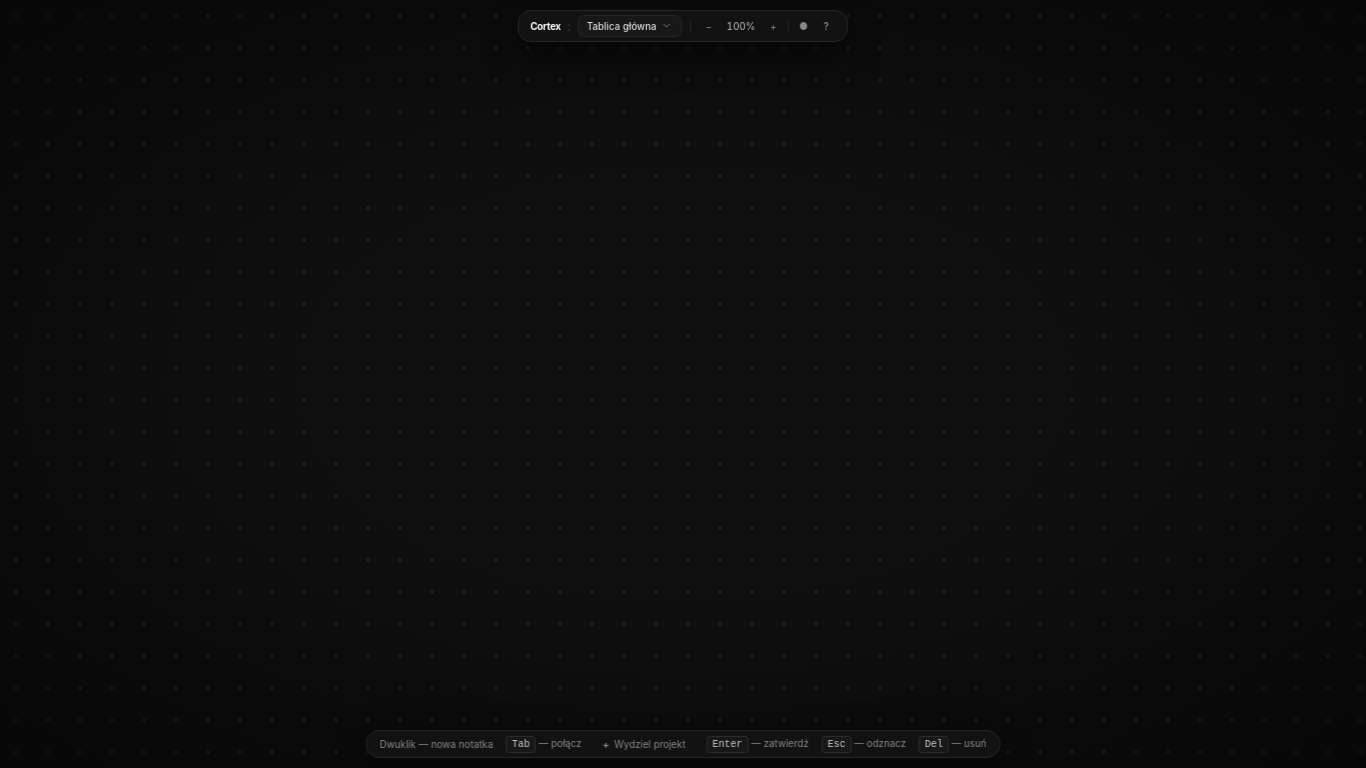
Test: Macro Canvas - Cluster, Bracket and Project Linking › renders projects and satellite clusters in macro view
The image size is (1366, 768).
Click the button with test id "project-switcher-button" at (630, 26), box [578,15,682,37]
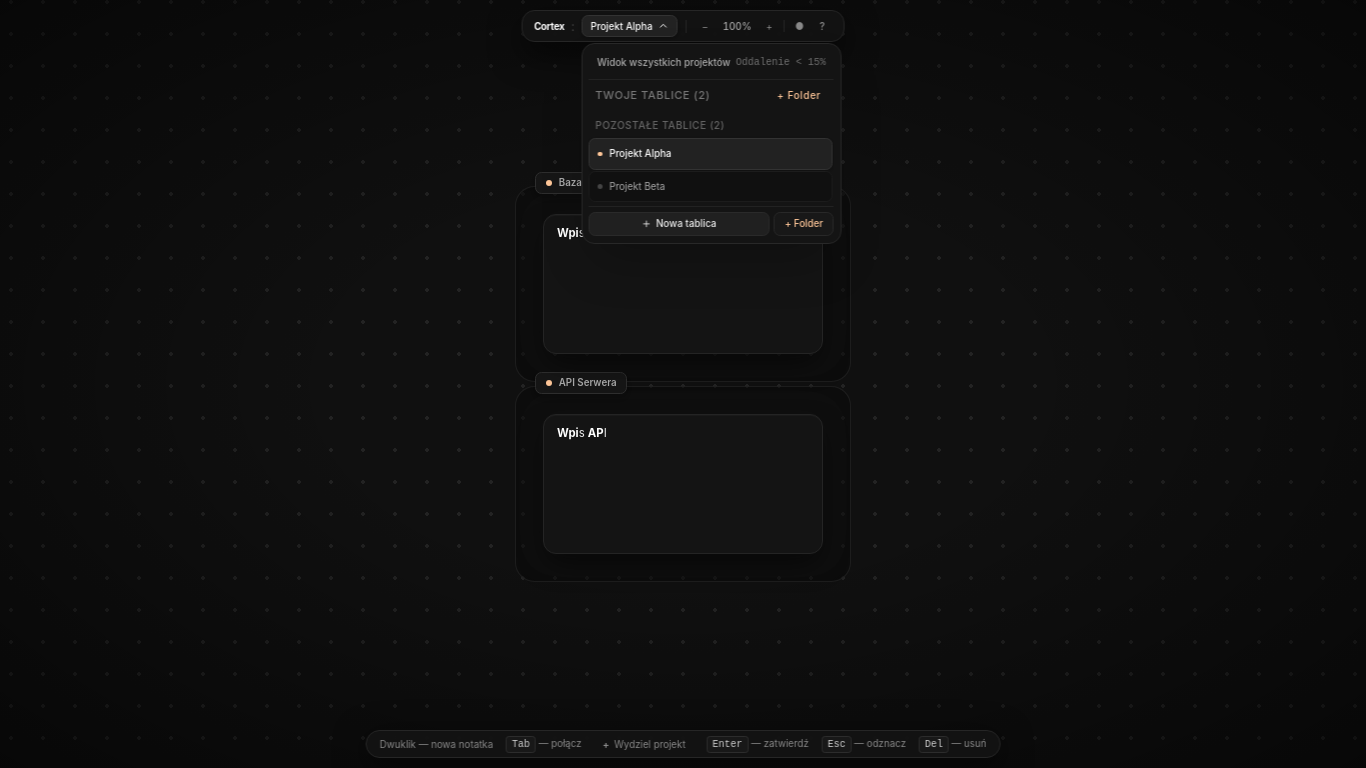
Click the button with test id "macro-view-toggle-btn" at (711, 62), box [589,51,834,74]
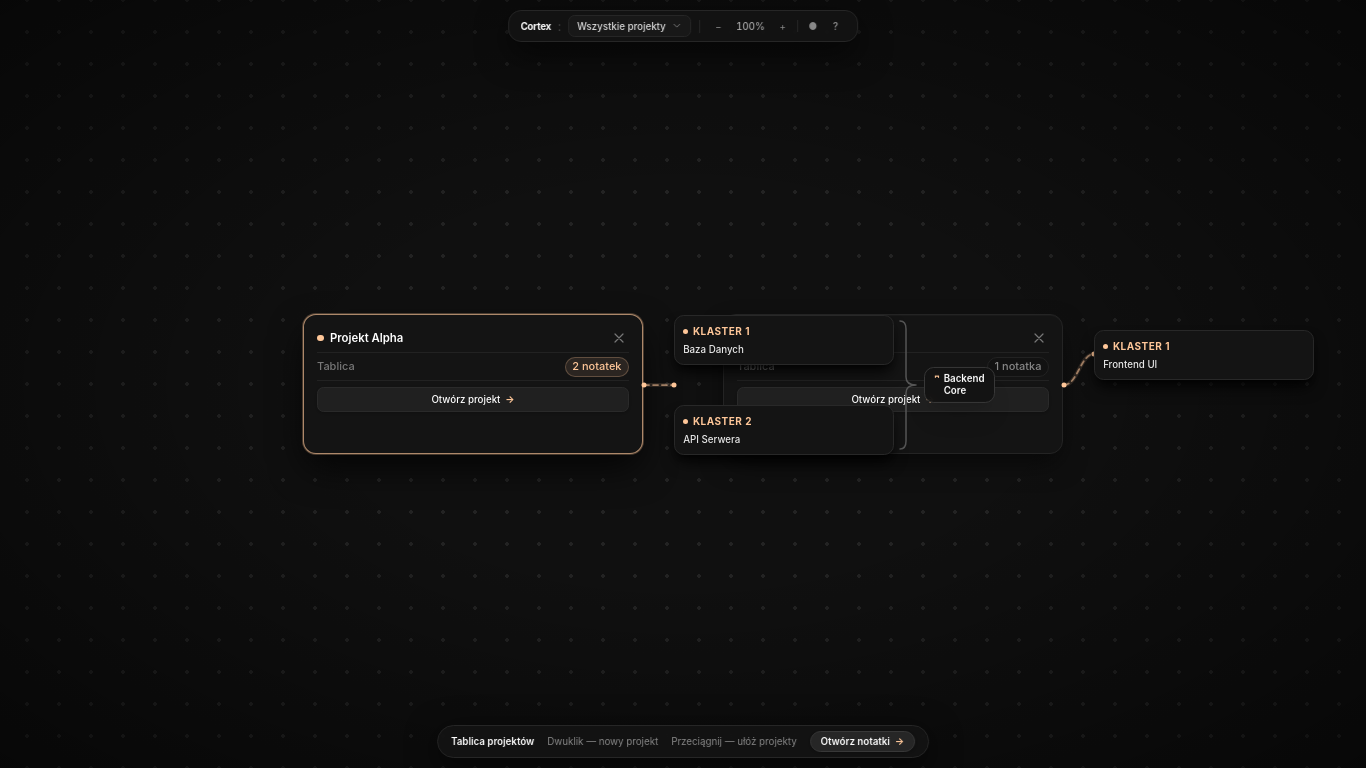
Check: the element with test id "macro-cluster-satellite-proj-1-node-1" is shown, box [674,315,894,365]
Check: the element with test id "macro-cluster-satellite-proj-1-node-1" shows "Baza Danych", box [683,344,744,355]
Check: the element with test id "macro-cluster-satellite-proj-2-node-2" is shown, box [1094,330,1314,380]
